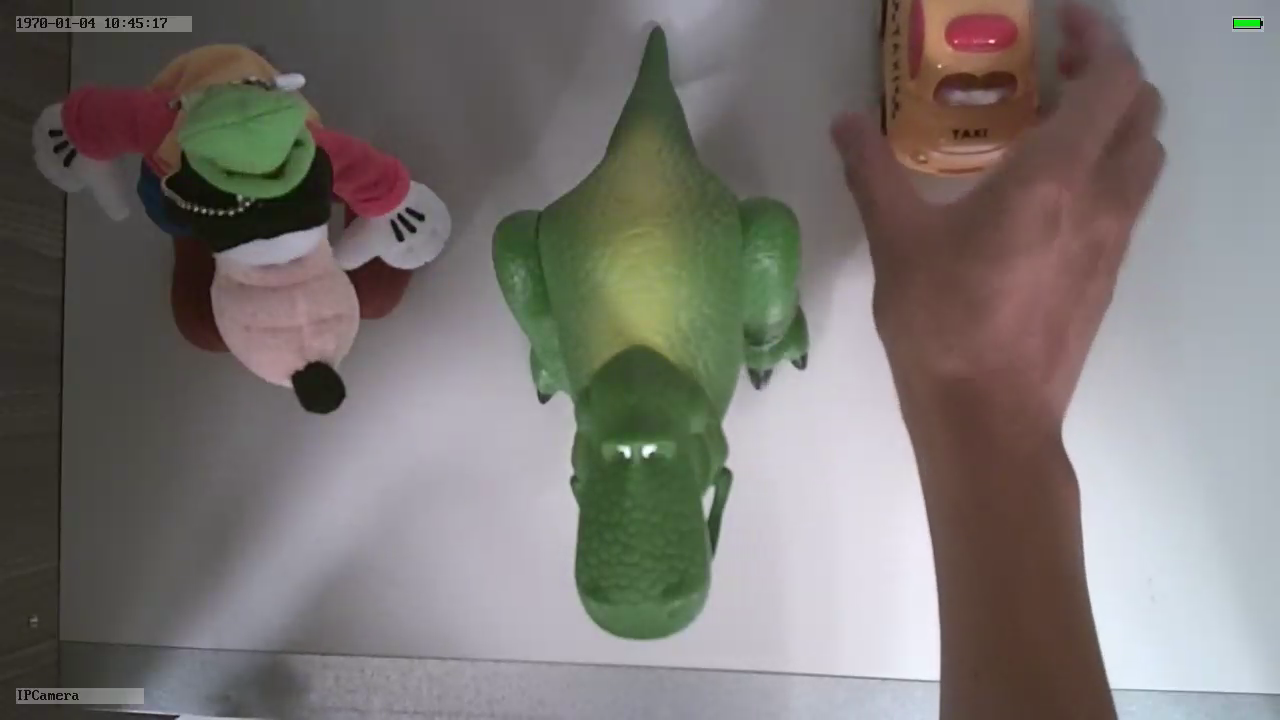goofy: (34, 38, 453, 419)
